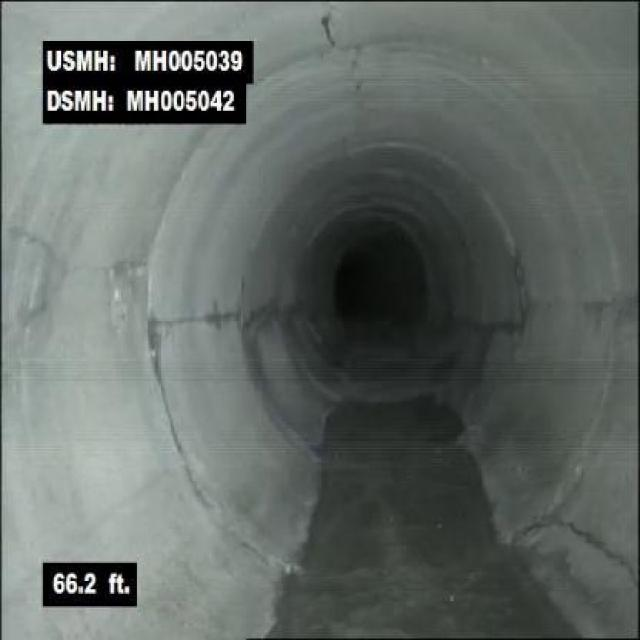Crack: (564, 518, 638, 610), (150, 300, 242, 337), (295, 3, 363, 49), (11, 221, 66, 277)
